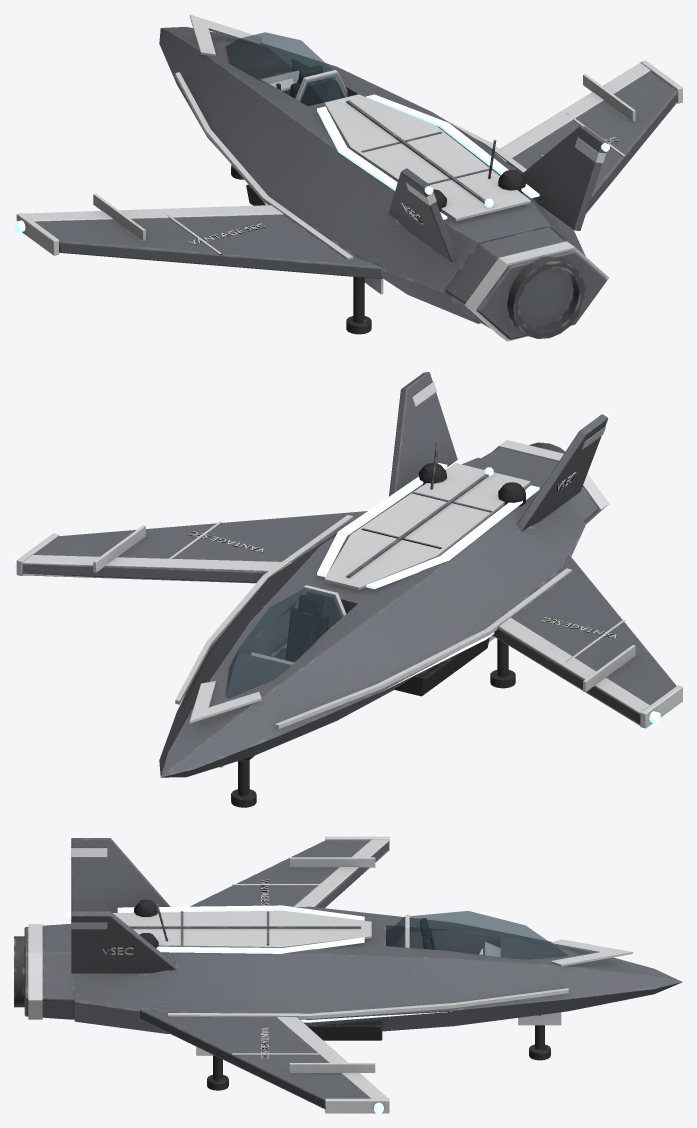
Rendered from sentry.glb.
3 renders of one model, top to bottom at view 1: azimuth 30°, elevation 25°; view 2: azimuth 150°, elevation 25°; view 3: azimuth 270°, elevation 25°, orthographic. The views are drawn at different scales.
Visible parts, largest first — view 1: hull, glass, lights; view 2: hull, glass, lights; view 3: hull, glass, lights.
Boxes of the visible parts, x1,y1,x2,y2 form: hull: (16, 14, 682, 341); glass: (225, 32, 347, 105); lights: (14, 65, 660, 232); hull: (16, 372, 682, 807); glass: (226, 588, 342, 698); lights: (14, 370, 660, 723); hull: (14, 836, 682, 1113); glass: (386, 911, 567, 959); lights: (67, 836, 482, 1113).
Size of the model in its own units: 8.9 by 2.79 by 9.35.
Materials: 6 (5 with a texture image).
